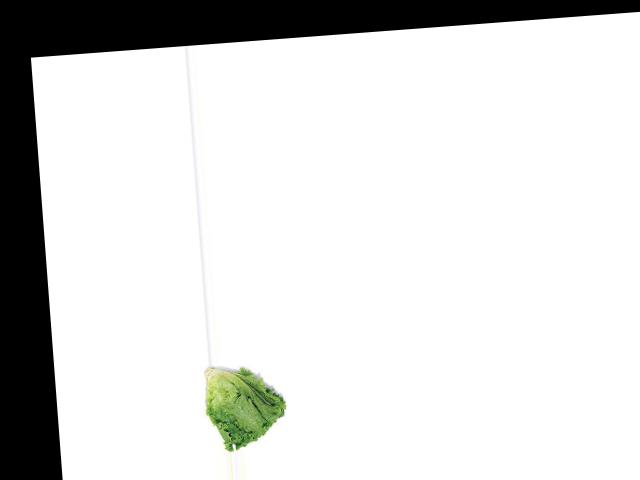lettuce: (196, 358, 296, 453)
